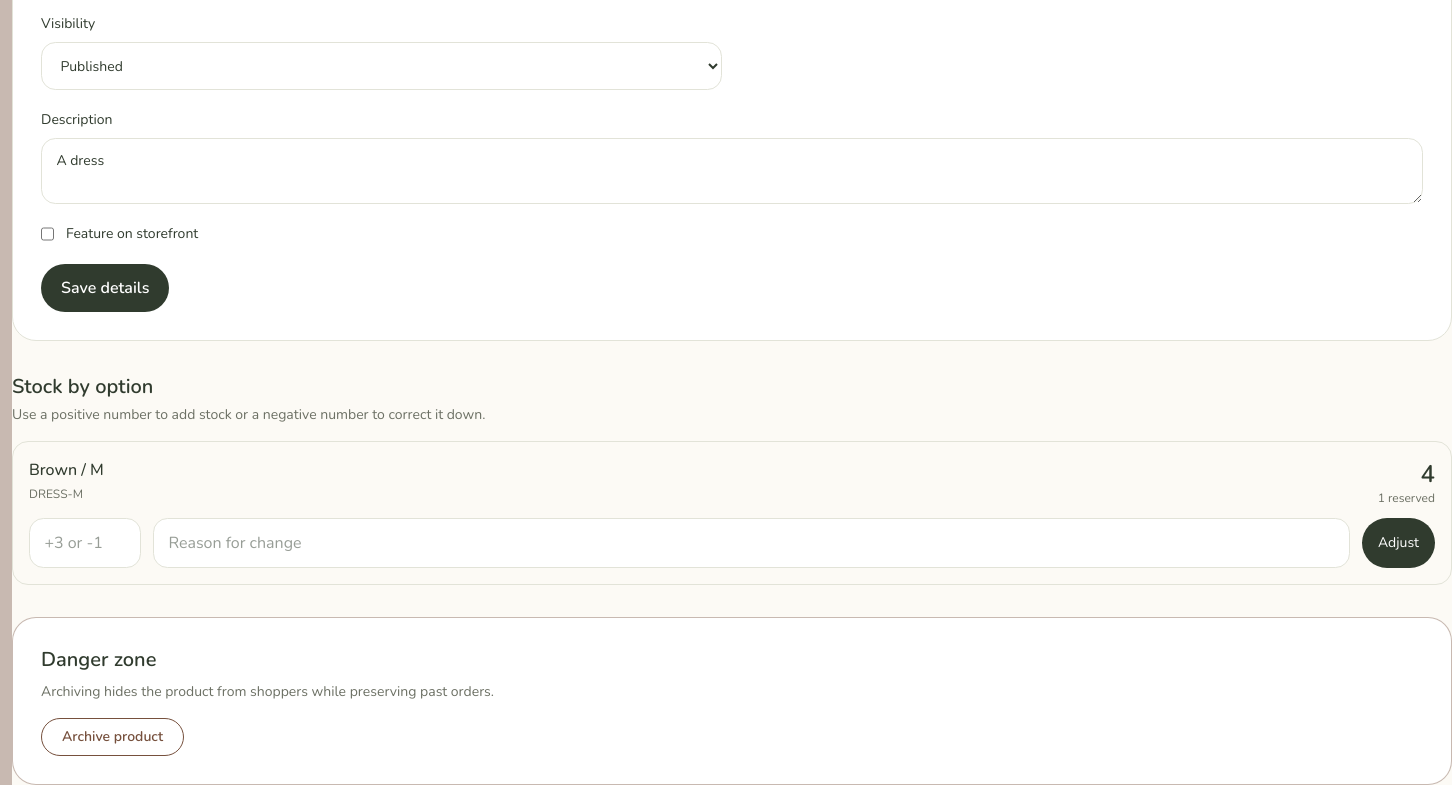
it: AdminProductEditor › cancels archiving and reports archive failures
(page scrolled)
Click the button "Archive product". click: (112, 737)
box: [41,718,184,756]
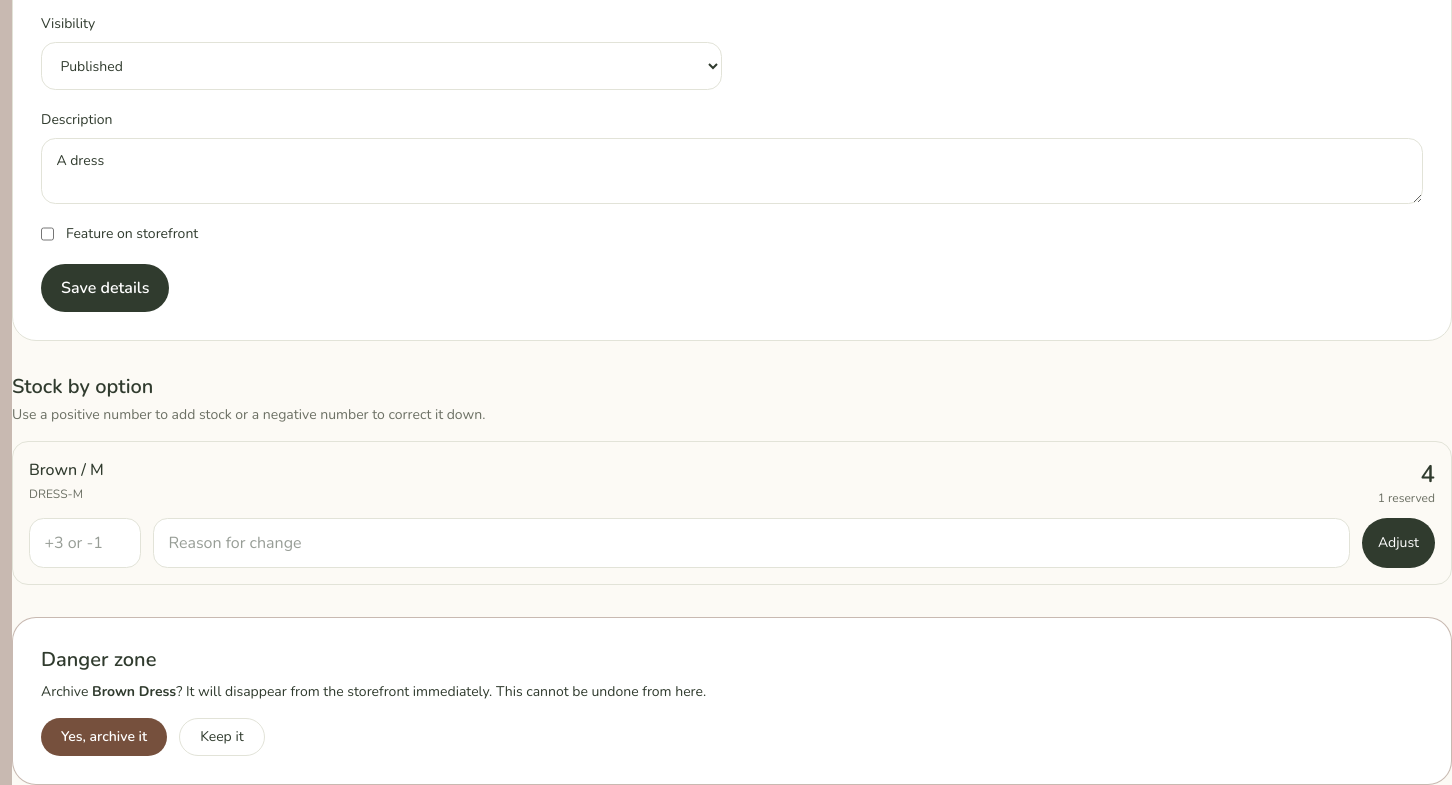
Click the button "Keep it". click: (222, 737)
box: [179,718,264,756]
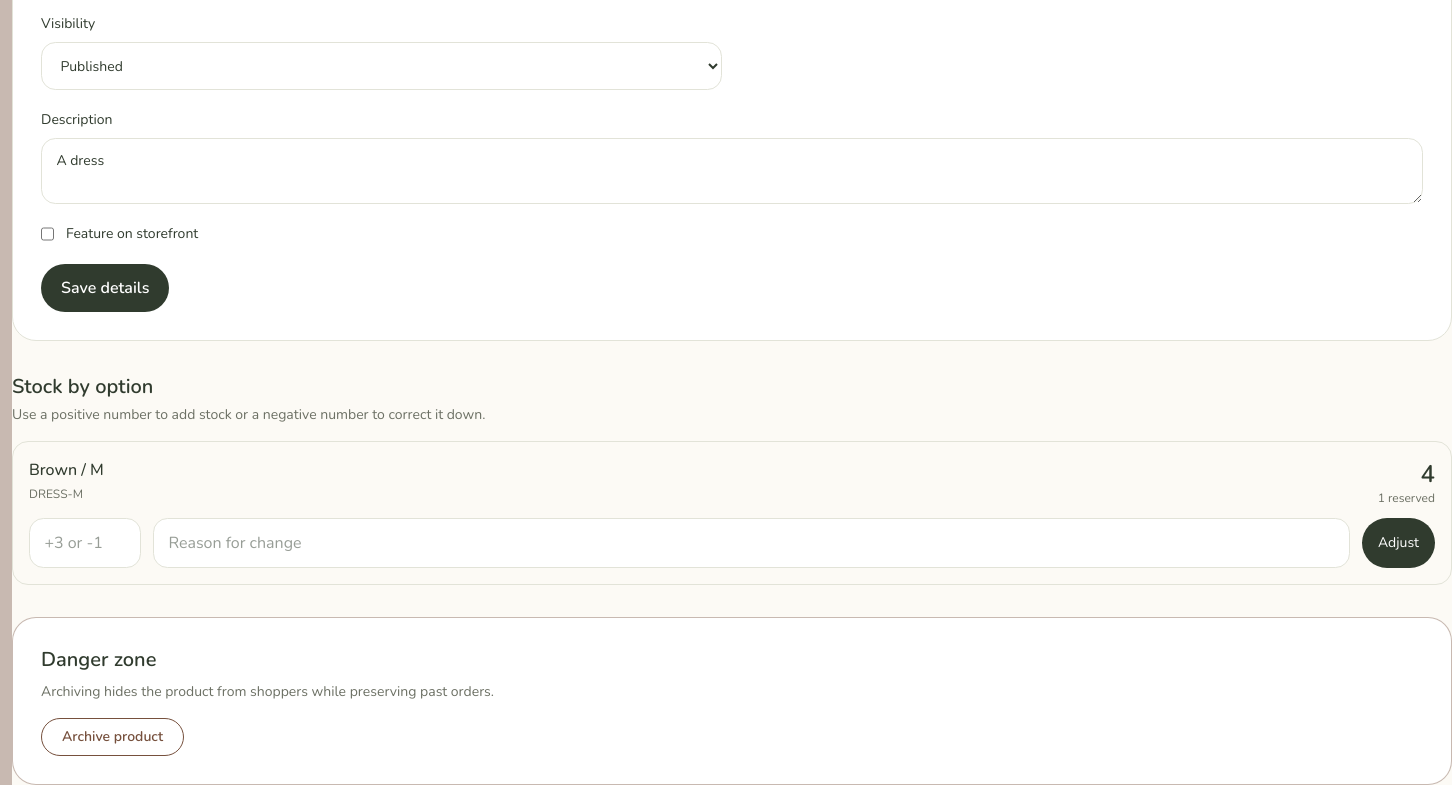
Click the button "Archive product". click: (112, 737)
box: [41,718,184,756]
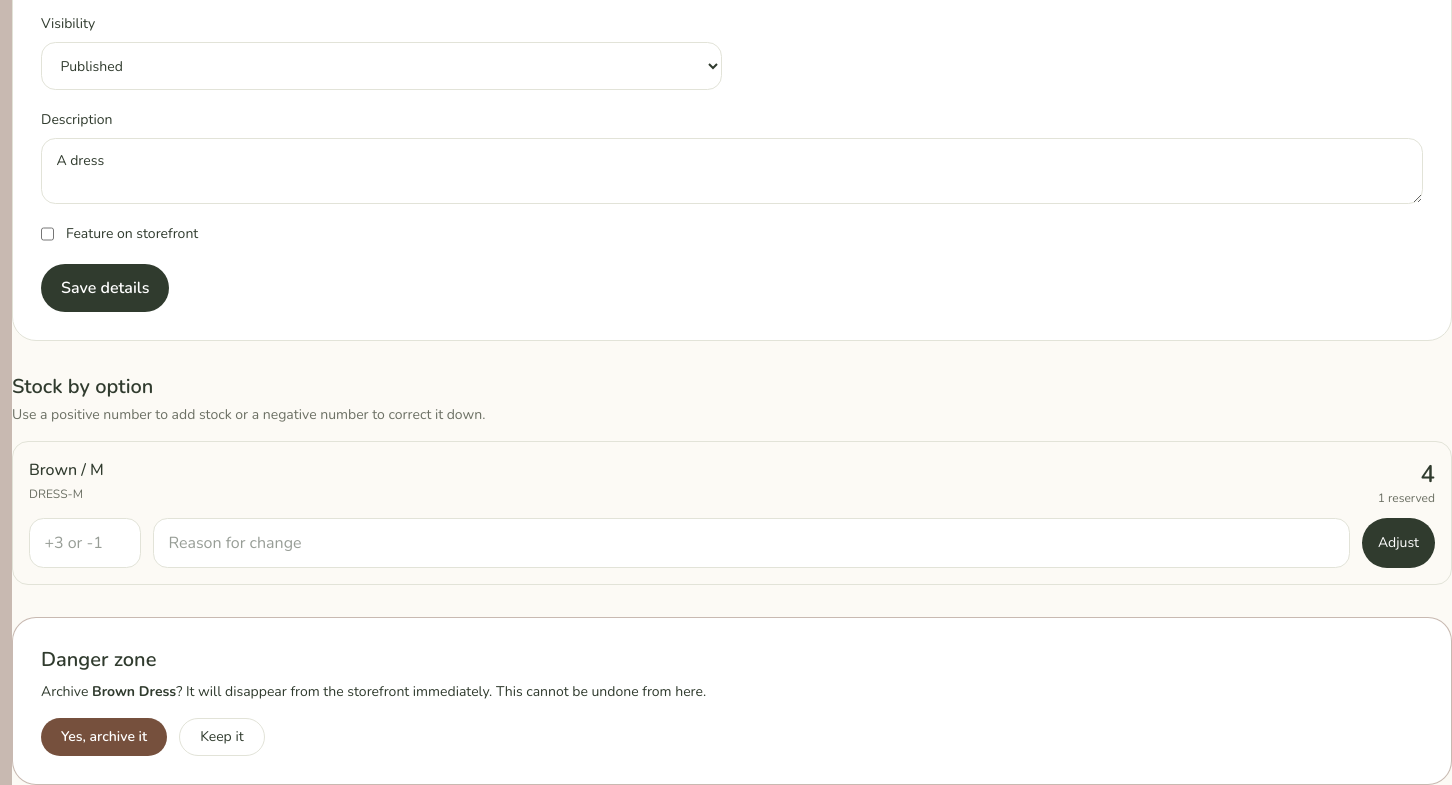
Click the button "Yes, archive it". click: (104, 737)
box: [41,718,167,756]
(page scrolled)
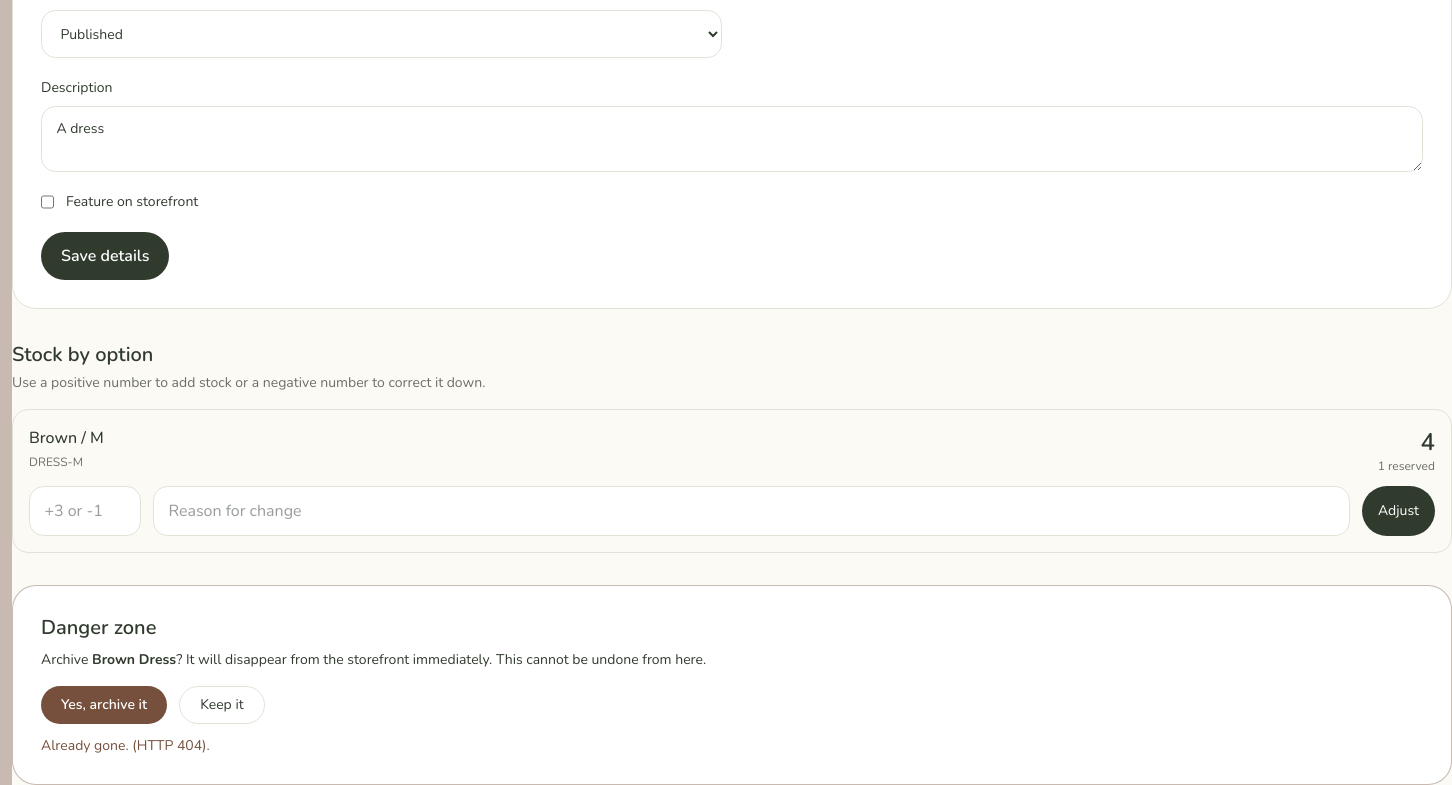
Expected: the text "Already gone. (HTTP 404)." is shown, [41,736,210,755]
